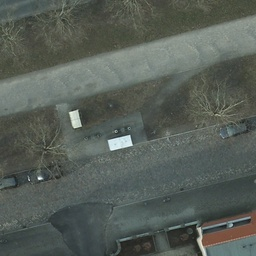car: (26, 166, 61, 185), (219, 121, 251, 140), (0, 176, 18, 192)
